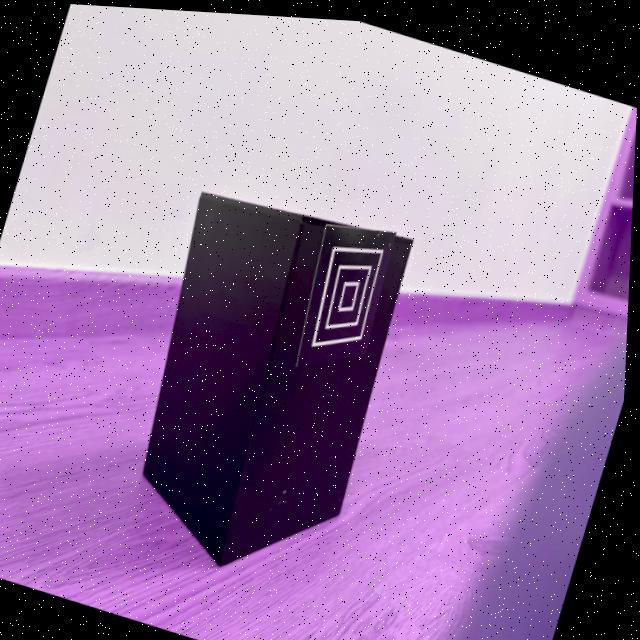BULLSEYE: (299, 221, 399, 366)
